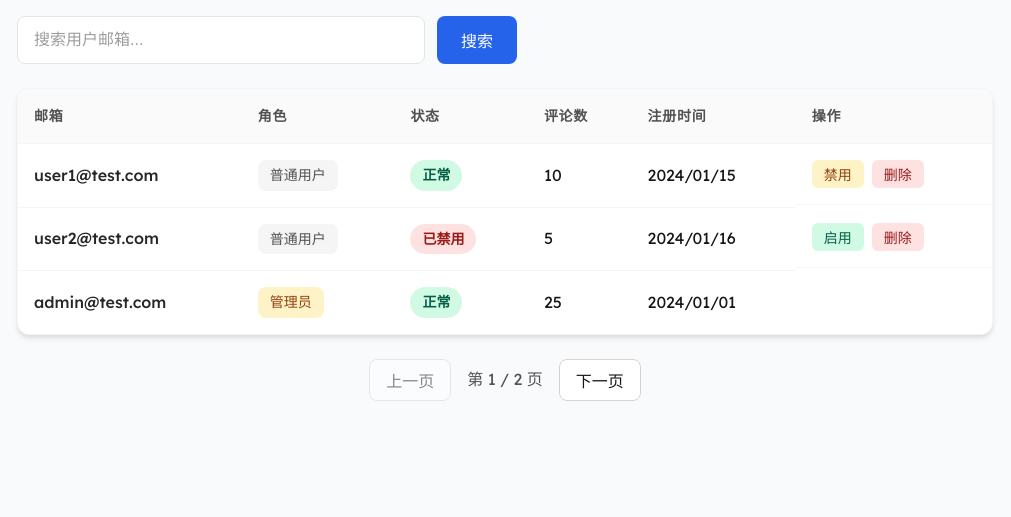
Test: UserManagement › displays error on status update failure
The width and height of the screenshot is (1011, 517).
expect the text "user1@test.com" is shown: met, box [18,144,242,207]
Click the button "禁用" at [838, 174], box [812,160,864,188]
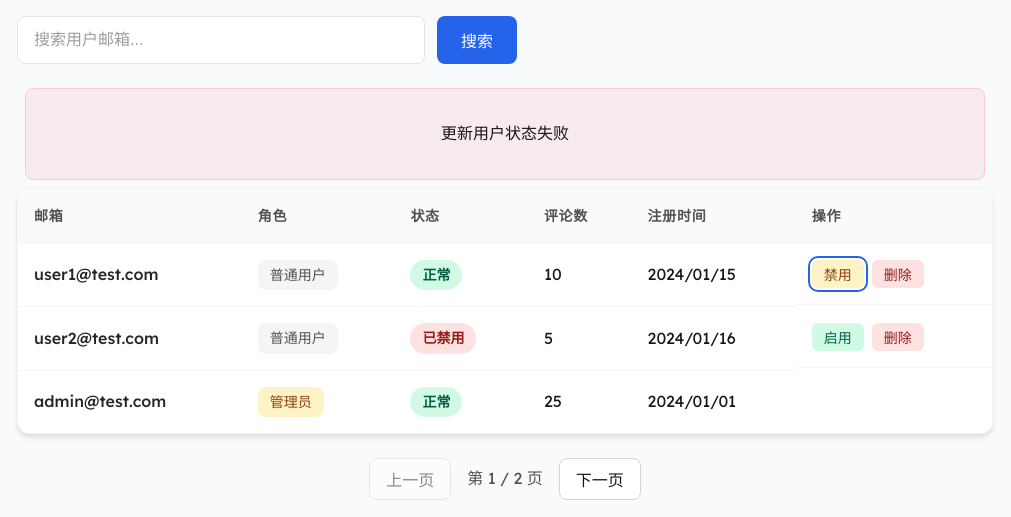
expect the text "更新用户状态失败" is shown: met, box [25,88,985,180]
